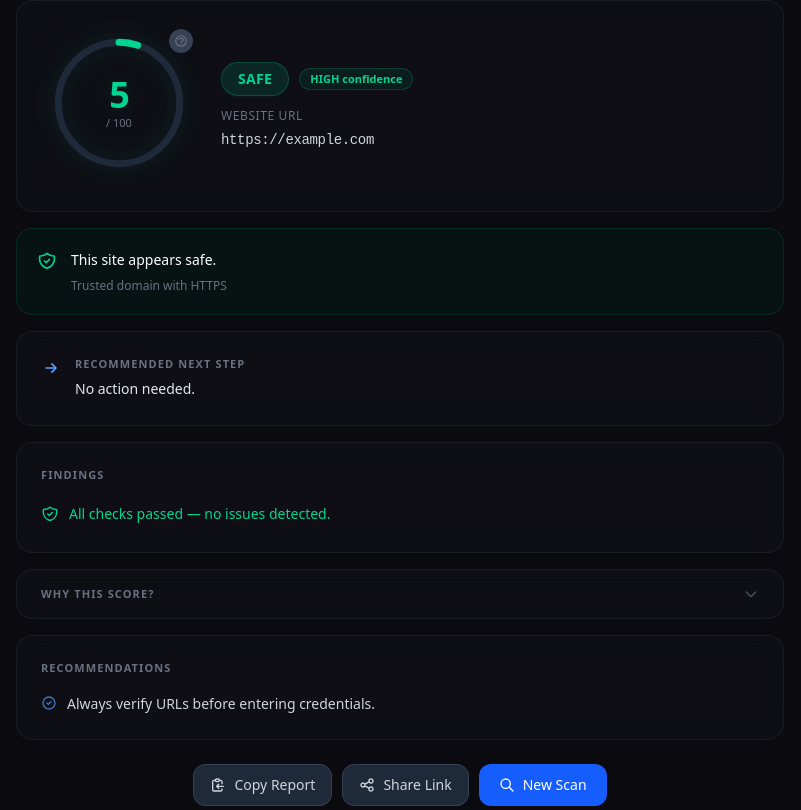
ReportCard › collapsible sections › toggles score breakdown on click
This screenshot has width=801, height=810.
Expected: the text "Suspicious TLD" is not shown
// Click to open
Click the button "Why this score?" at [98, 593], box left=17, top=570, right=783, bottom=618
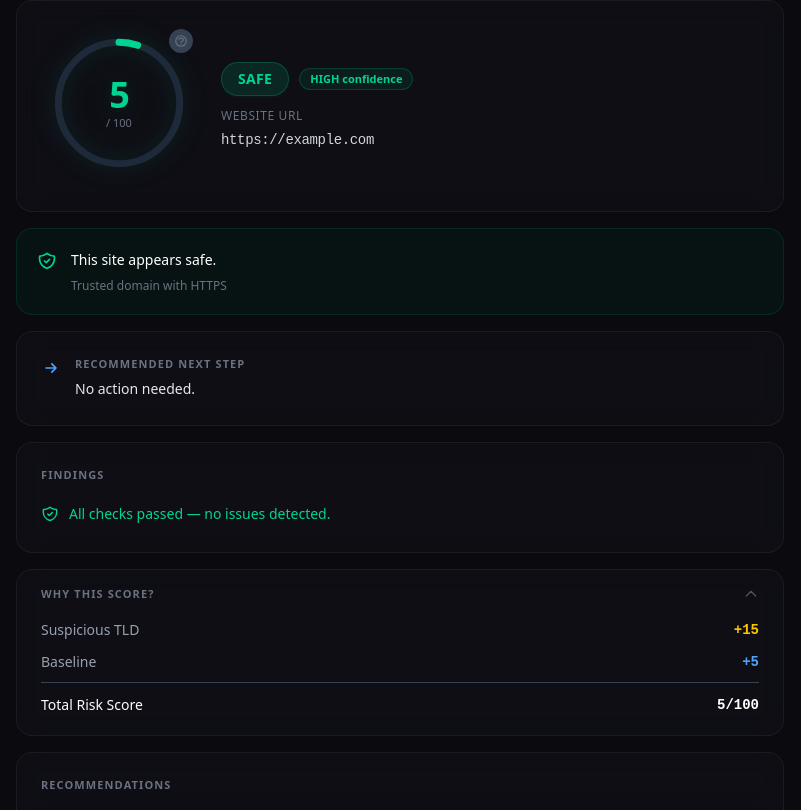
Result: the text "Suspicious TLD" is shown at left=41, top=620, right=139, bottom=640
Result: the text "+15" is shown at left=734, top=620, right=759, bottom=640
Result: the text "+5" is shown at left=742, top=652, right=759, bottom=672
